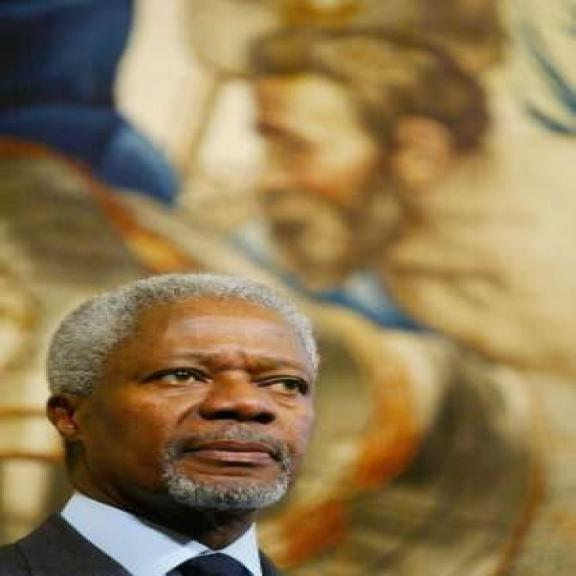face: (45, 300, 329, 526)
